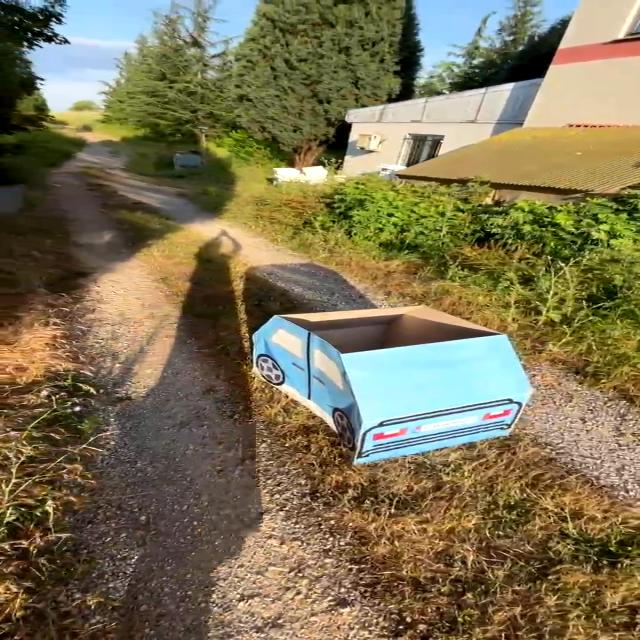blue_car: (196, 279, 573, 477)
